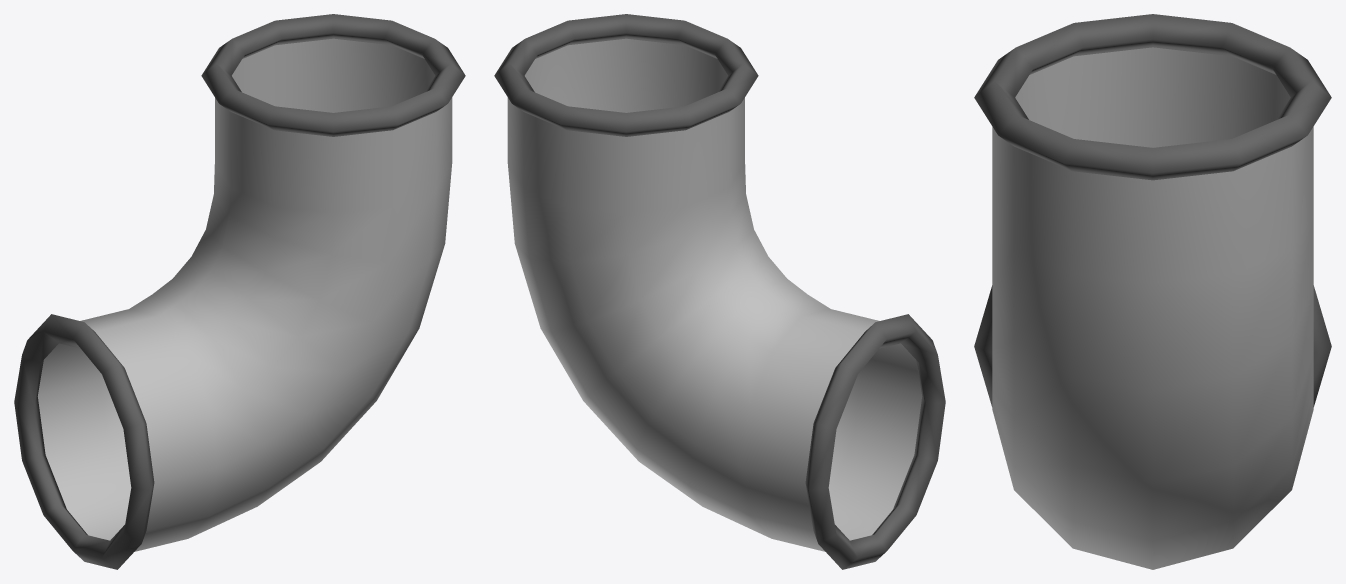
The model's file is pipe_008.fbx.
3 views of the same model, side by side, from view 1: azimuth 30°, elevation 25°; view 2: azimuth 150°, elevation 25°; view 3: azimuth 270°, elevation 25° (orthographic). The views are drawn at different scales.
Parts seen in each view (by area): view 1: pipe_008; view 2: pipe_008; view 3: pipe_008.
Part boxes in pixels (<box>): pipe_008: <box>14,14,465,569</box>; pipe_008: <box>494,14,945,569</box>; pipe_008: <box>974,14,1331,569</box>.
Size of the model in its own units: 350 by 214 by 390.
